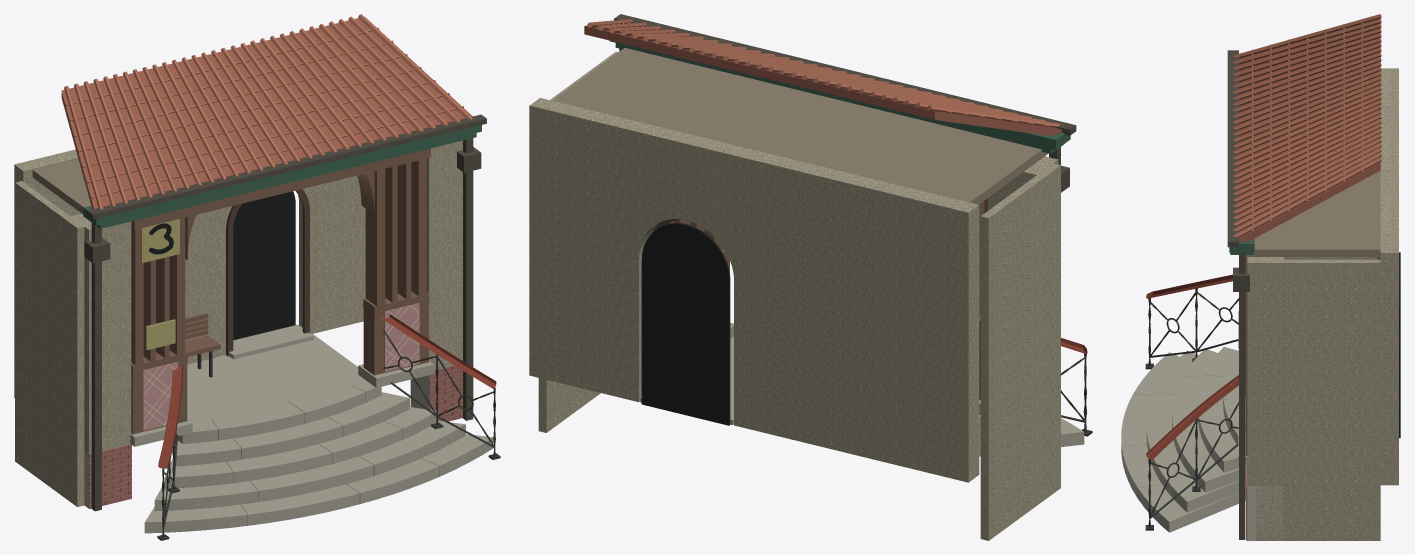
Rendered from dingxiang-porch-lod.glb.
3 views of the same model, side by side, from view 1: azimuth 30°, elevation 25°; view 2: azimuth 150°, elevation 25°; view 3: azimuth 270°, elevation 25° (orthographic). The views are drawn at different scales.
Parts seen in each view (by area): view 1: 丁香花园三号楼门廊与弧形石阶; view 2: 丁香花园三号楼门廊与弧形石阶; view 3: 丁香花园三号楼门廊与弧形石阶.
Boxes of the visible parts, bbox=[...] form: 丁香花园三号楼门廊与弧形石阶: bbox=[14, 14, 500, 540]; 丁香花园三号楼门廊与弧形石阶: bbox=[529, 14, 1092, 540]; 丁香花园三号楼门廊与弧形石阶: bbox=[1121, 14, 1400, 540].
Size of the model in its own units: 5.7 by 5.01 by 3.51.
19 materials, 1 textured.
